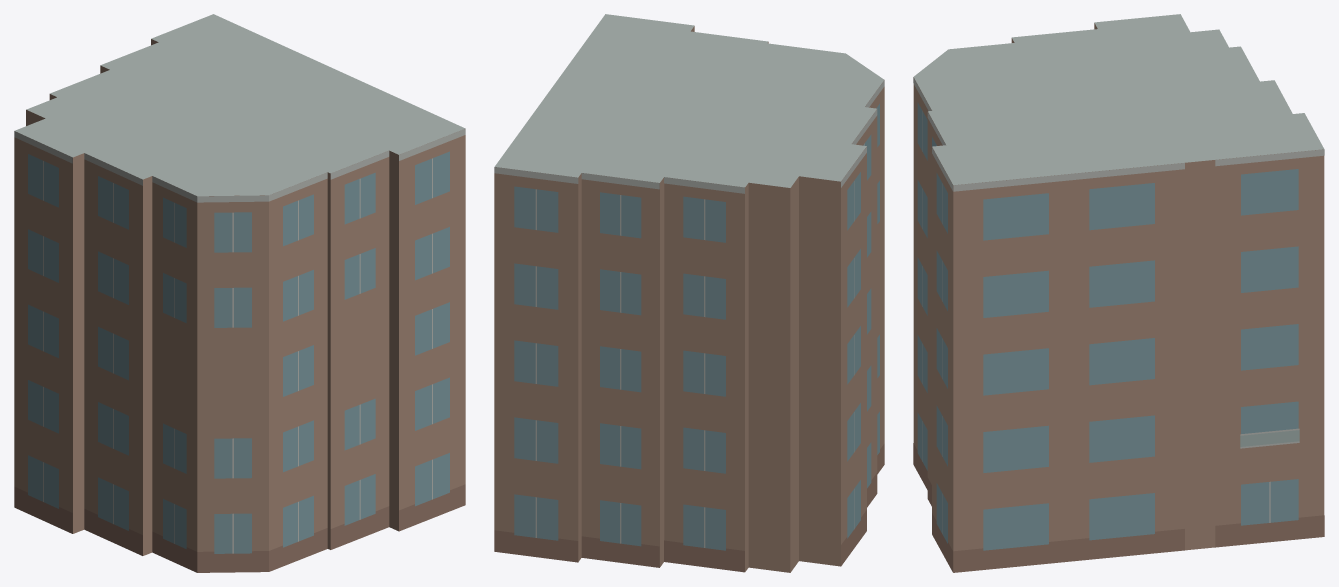
The model's file is survey-upis-32738590.glb.
The picture shows the model from 3 angles, left to right: view 1: azimuth 30°, elevation 25°; view 2: azimuth 150°, elevation 25°; view 3: azimuth 270°, elevation 25°; orthographic projection. The views are drawn at different scales.
Parts seen in each view (by area): view 1: survey-upis-32738590.tmp; view 2: survey-upis-32738590.tmp; view 3: survey-upis-32738590.tmp.
Part boxes in pixels (x1,y1,x2,y2): survey-upis-32738590.tmp: [14, 14, 465, 572]; survey-upis-32738590.tmp: [494, 14, 884, 572]; survey-upis-32738590.tmp: [913, 14, 1324, 572].
Bounding box in the file's own units: 13.84 × 14.6 × 14.04.
